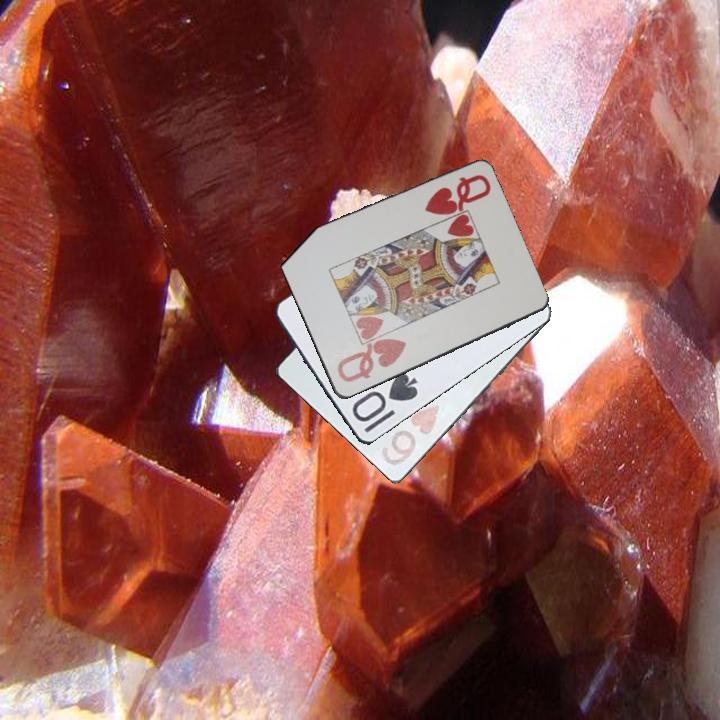6h: (376, 401, 446, 472)
Qh: (333, 334, 410, 386), (421, 171, 494, 219)
Ts: (348, 370, 421, 437)
